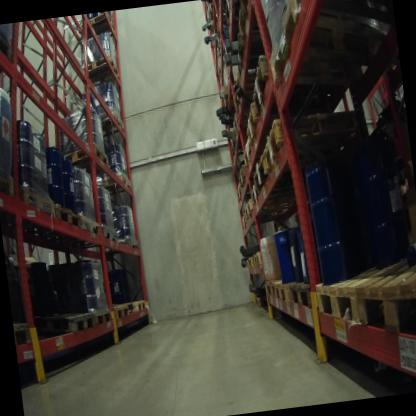pallet: (261, 0, 378, 82), (259, 102, 372, 175), (310, 253, 400, 326), (352, 251, 416, 350), (56, 136, 111, 183), (244, 51, 284, 115), (35, 303, 97, 339), (21, 175, 62, 229), (232, 27, 278, 72), (229, 108, 276, 152), (243, 94, 281, 146), (286, 270, 324, 315), (91, 167, 138, 203), (233, 0, 278, 34), (241, 193, 285, 227), (75, 10, 121, 42), (241, 207, 291, 235), (53, 198, 86, 238), (93, 104, 128, 139), (247, 150, 270, 196), (273, 272, 304, 305), (82, 56, 118, 84), (80, 208, 108, 243), (0, 162, 24, 202), (98, 217, 124, 253), (13, 314, 36, 351), (100, 297, 130, 324), (263, 270, 287, 300), (92, 304, 116, 332), (240, 137, 263, 165), (122, 230, 148, 254), (125, 300, 149, 319), (253, 292, 273, 311), (252, 248, 271, 266), (236, 168, 251, 188), (248, 180, 258, 207), (244, 256, 255, 268)
